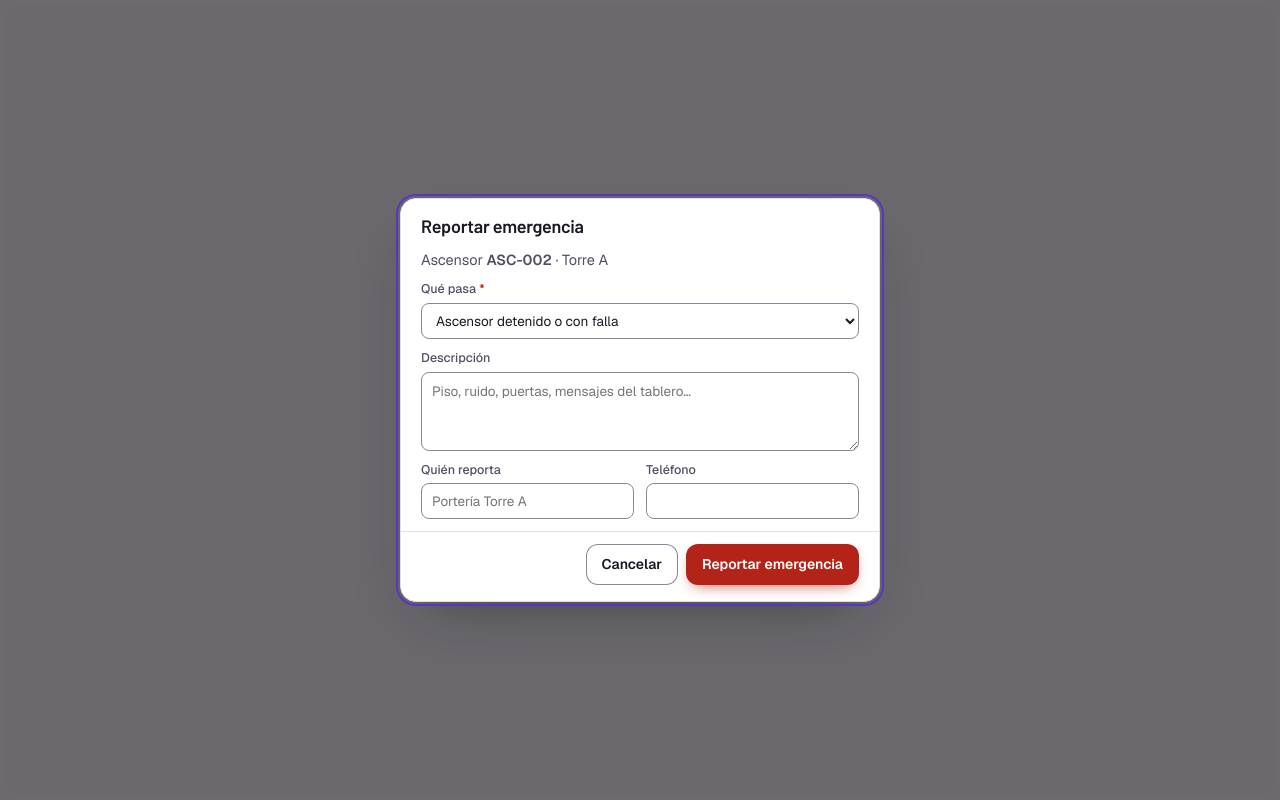
Test case: reportar emergencia desde el panel › se puede escribir de seguido sin que el campo pierda el foco
Click the field labelled "Quién reporta".
click(528, 501)  # box [421,483,634,519]
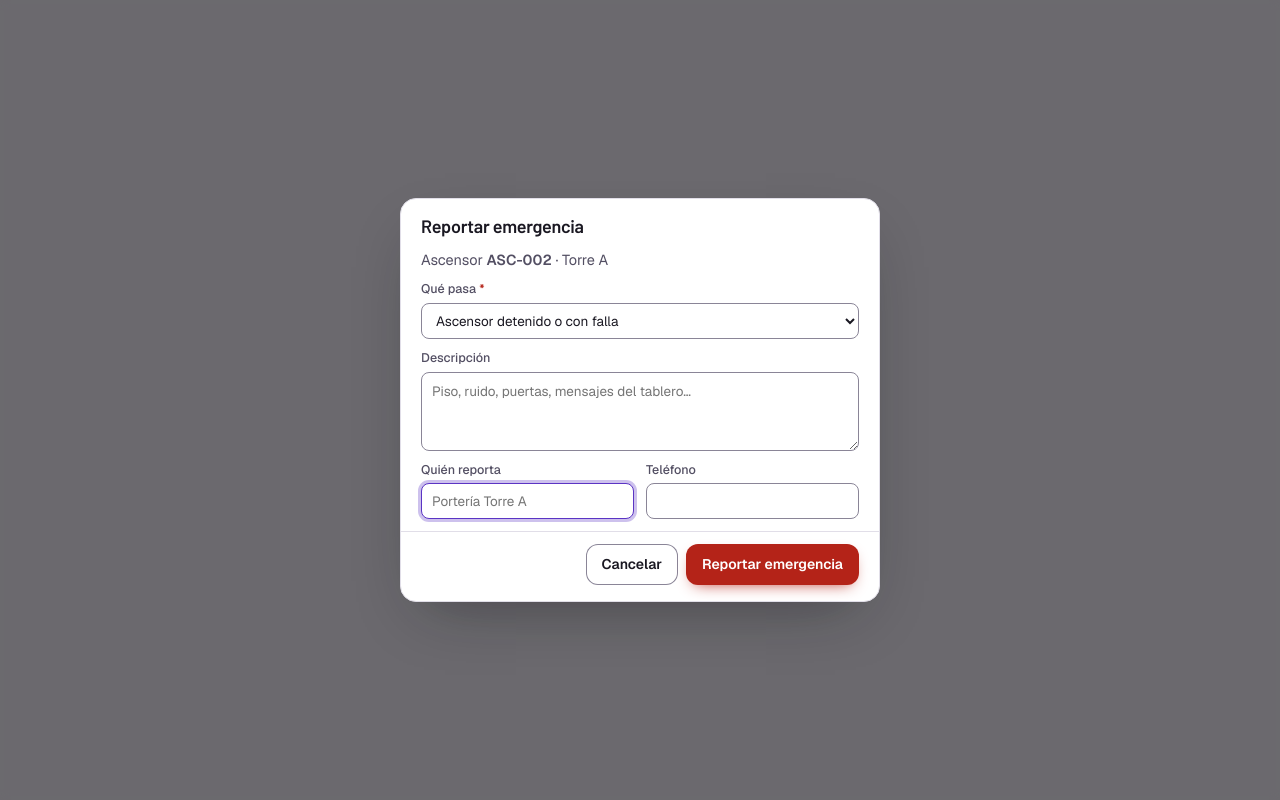
Type keys "Portería Torre A"
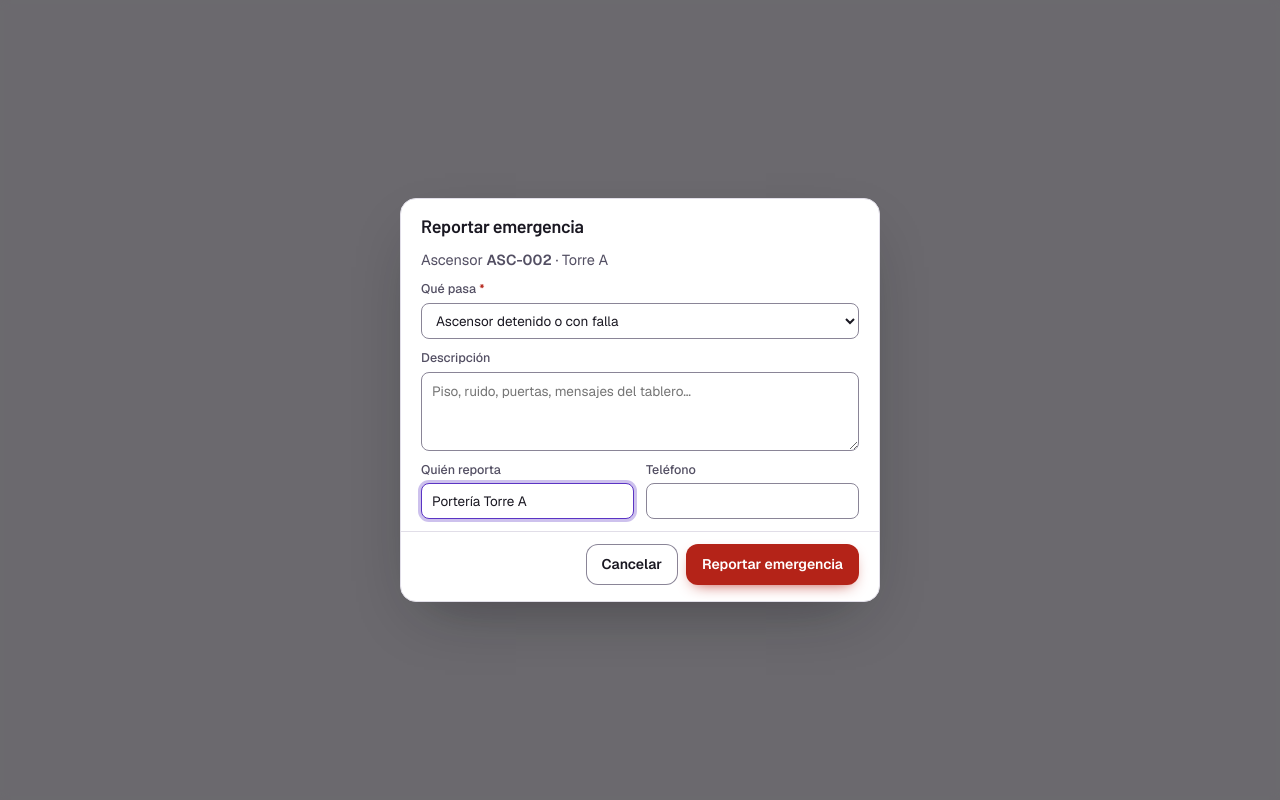
Expected: the field labelled "Quién reporta" holds "Portería Torre A", [421,483,634,519]
